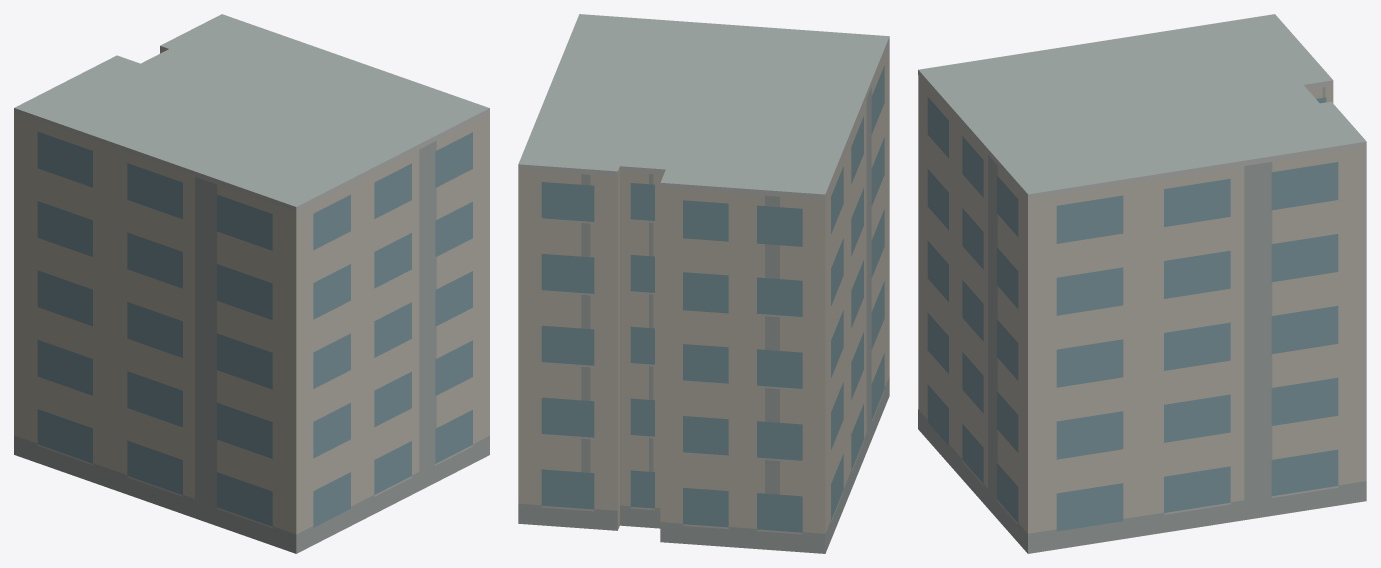
File: survey-upis-32853013.glb
3 views of the same model, side by side, from view 1: azimuth 30°, elevation 25°; view 2: azimuth 150°, elevation 25°; view 3: azimuth 270°, elevation 25° (orthographic). The views are drawn at different scales.
Visible parts, largest first — view 1: survey-upis-32853013.tmp; view 2: survey-upis-32853013.tmp; view 3: survey-upis-32853013.tmp.
Boxes of the visible parts, x1,y1,x2,y2 form: survey-upis-32853013.tmp: [14, 14, 489, 553]; survey-upis-32853013.tmp: [518, 14, 889, 553]; survey-upis-32853013.tmp: [918, 14, 1366, 553].
Size of the model in its own units: 17.28 by 16.05 by 18.16.
